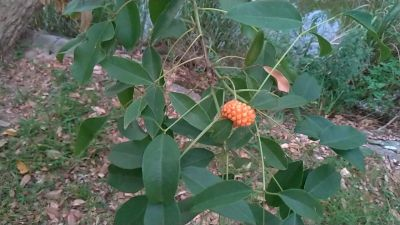eggs: (220, 98, 255, 127)
